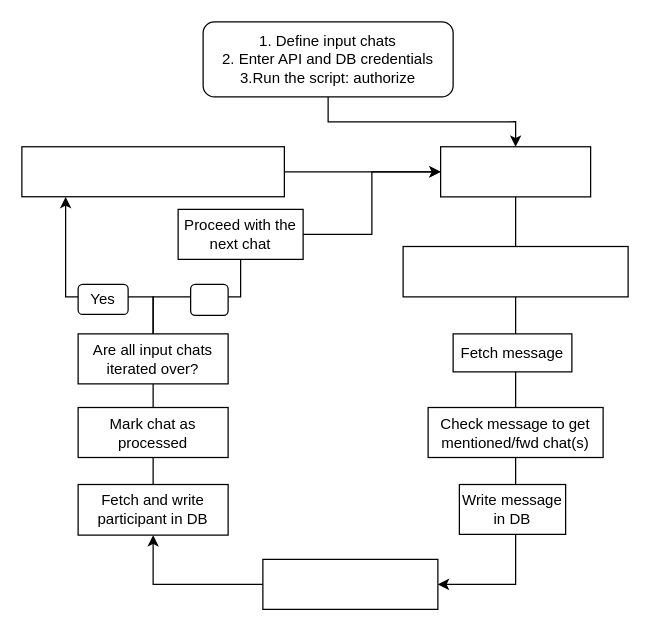
The diagram is 650 pixels wide and 631 high, and some of its shapes have lost their labels. Each missing label, with the box of its shape:
Establish first connection to the chat: (439, 146, 591, 197)
Fetch chat information and write it in DB, check for linked chat: (402, 245, 628, 297)
No: (189, 283, 228, 315)
Overwrite input chats with all the mentioned chats from the last iteration: (21, 146, 284, 197)
Write mentioned chats: (262, 558, 438, 609)
